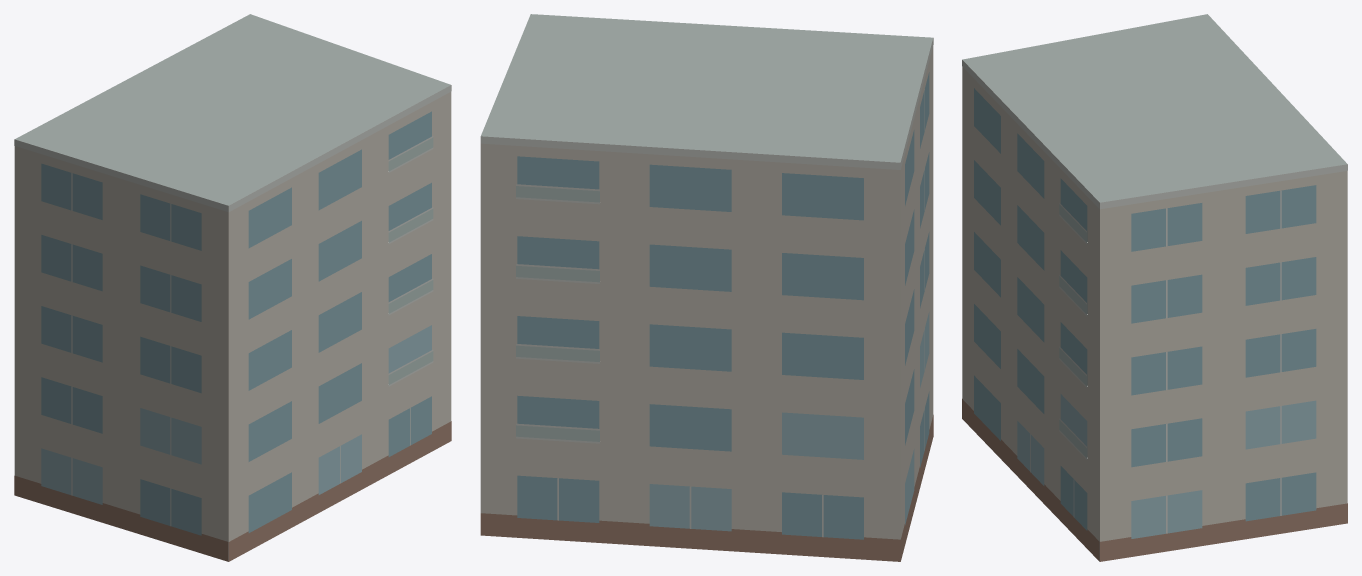
The model's file is survey-upis-32850756.glb.
3 views of the same model, side by side, from view 1: azimuth 30°, elevation 25°; view 2: azimuth 150°, elevation 25°; view 3: azimuth 270°, elevation 25° (orthographic). The views are drawn at different scales.
Visible parts, largest first — view 1: survey-upis-32850756.tmp; view 2: survey-upis-32850756.tmp; view 3: survey-upis-32850756.tmp.
Part boxes in pixels (bbox=[...]): survey-upis-32850756.tmp: bbox=[14, 14, 451, 561]; survey-upis-32850756.tmp: bbox=[480, 14, 933, 561]; survey-upis-32850756.tmp: bbox=[962, 14, 1347, 561].
Size of the model in its own units: 15.06 by 13.35 by 13.
